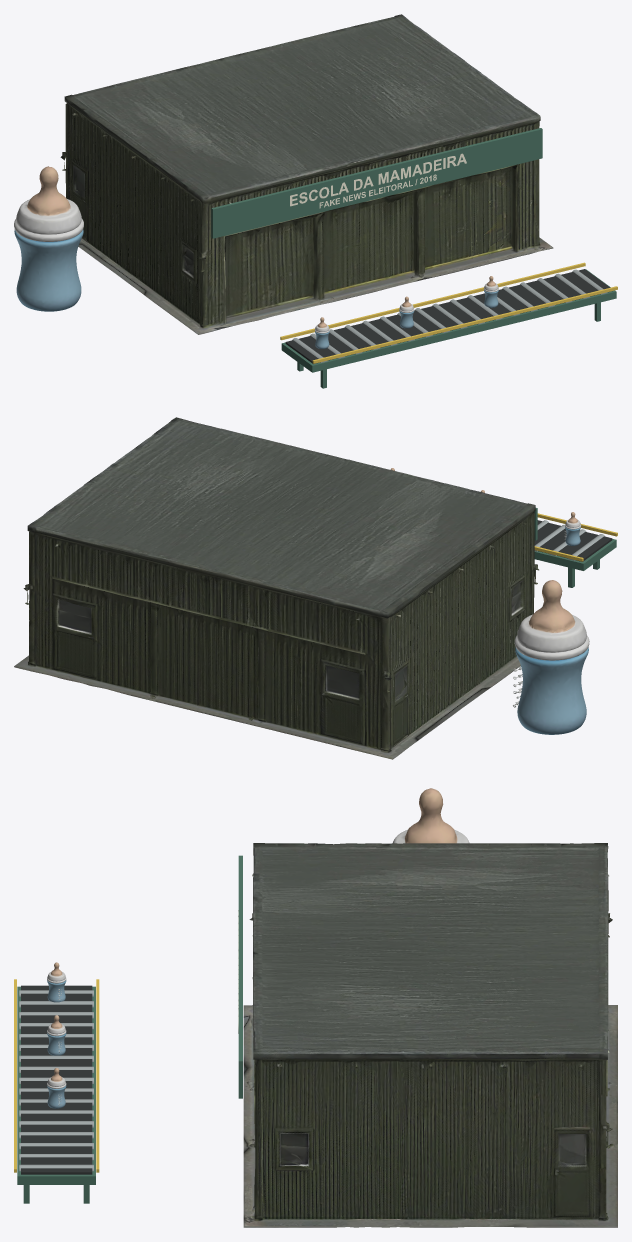
File: secret-bottle-factory.glb
The picture shows the model from 3 angles, top to bottom: view 1: azimuth 30°, elevation 25°; view 2: azimuth 150°, elevation 25°; view 3: azimuth 270°, elevation 25°; orthographic projection. The views are drawn at different scales.
Visible parts, largest first — view 1: tripo_node_6655eddd-683f-499a-9515-f29d6c4034ae, Factory_Sign, tripo_node_0e6b1a0e-2161-4eec-b24c-e5f5ac90db8e, Conveyor_Belt, Conveyor_Base, Conveyor_Safety_Rail, Conveyor_Safety_Rail.001, Sign_ESCOLA DA MAMADEIRA; view 2: tripo_node_6655eddd-683f-499a-9515-f29d6c4034ae, tripo_node_0e6b1a0e-2161-4eec-b24c-e5f5ac90db8e, Conveyor_Belt, Conveyor_Base; view 3: tripo_node_6655eddd-683f-499a-9515-f29d6c4034ae, Conveyor_Belt, Conveyor_Base, tripo_node_0e6b1a0e-2161-4eec-b24c-e5f5ac90db8e, tripo_mesh_0e6b1a0e-2161-4eec-b24c-e5f5ac90db8e.001 (×3), Factory_Sign, Conveyor_Safety_Rail.001.
Part boxes in pixels (left/top/right/bottom): tripo_node_6655eddd-683f-499a-9515-f29d6c4034ae: left=60, top=14, right=553, bottom=334; Factory_Sign: left=211, top=128, right=542, bottom=238; tripo_node_0e6b1a0e-2161-4eec-b24c-e5f5ac90db8e: left=14, top=166, right=83, bottom=311; Conveyor_Belt: left=285, top=269, right=612, bottom=363; Conveyor_Base: left=281, top=269, right=616, bottom=372; Conveyor_Safety_Rail: left=312, top=286, right=617, bottom=363; Conveyor_Safety_Rail.001: left=280, top=262, right=585, bottom=340; Sign_ESCOLA DA MAMADEIRA: left=290, top=153, right=466, bottom=206; tripo_node_6655eddd-683f-499a-9515-f29d6c4034ae: left=14, top=417, right=538, bottom=759; tripo_node_0e6b1a0e-2161-4eec-b24c-e5f5ac90db8e: left=513, top=580, right=589, bottom=734; Conveyor_Belt: left=534, top=520, right=612, bottom=561; Conveyor_Base: left=534, top=539, right=616, bottom=570; tripo_node_6655eddd-683f-499a-9515-f29d6c4034ae: left=243, top=843, right=617, bottom=1227; Conveyor_Belt: left=21, top=985, right=92, bottom=1174; Conveyor_Base: left=17, top=986, right=95, bottom=1184; tripo_node_0e6b1a0e-2161-4eec-b24c-e5f5ac90db8e: left=393, top=788, right=469, bottom=843; tripo_mesh_0e6b1a0e-2161-4eec-b24c-e5f5ac90db8e.001 (×3): left=47, top=962, right=66, bottom=1108; Factory_Sign: left=238, top=855, right=242, bottom=1098; Conveyor_Safety_Rail.001: left=96, top=979, right=99, bottom=1172.
Size of the model in its own units: 18.2 by 5 by 16.14.
7 materials, 2 textured.
